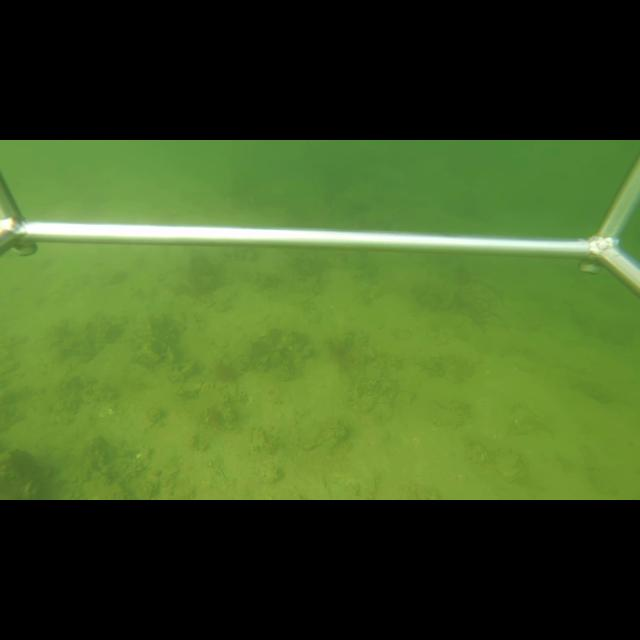Oyster-Closed: (294, 409, 347, 453)
